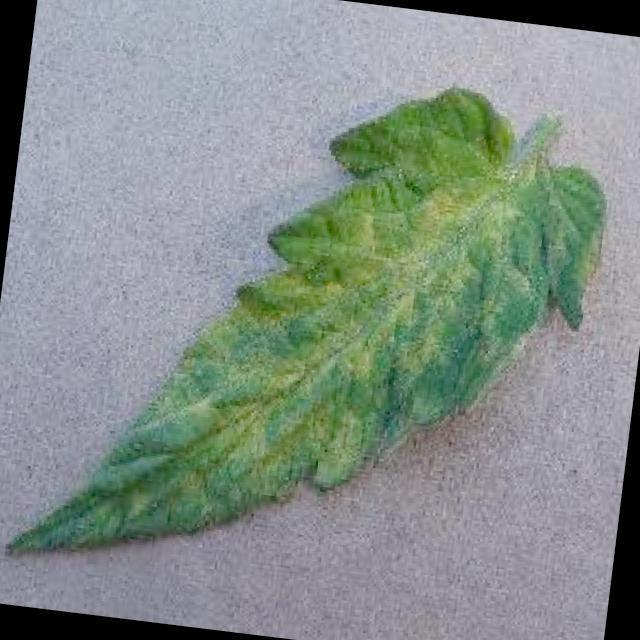Tomato mold leaf: (2, 44, 612, 622)
